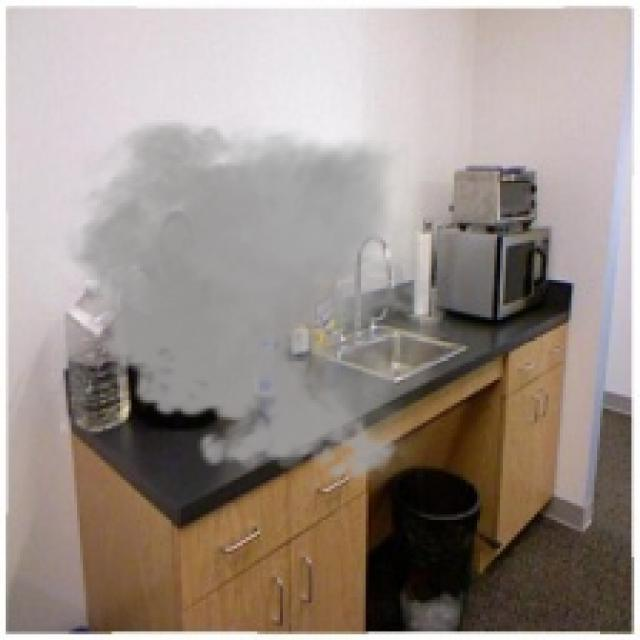Smoke: (48, 106, 463, 492)
